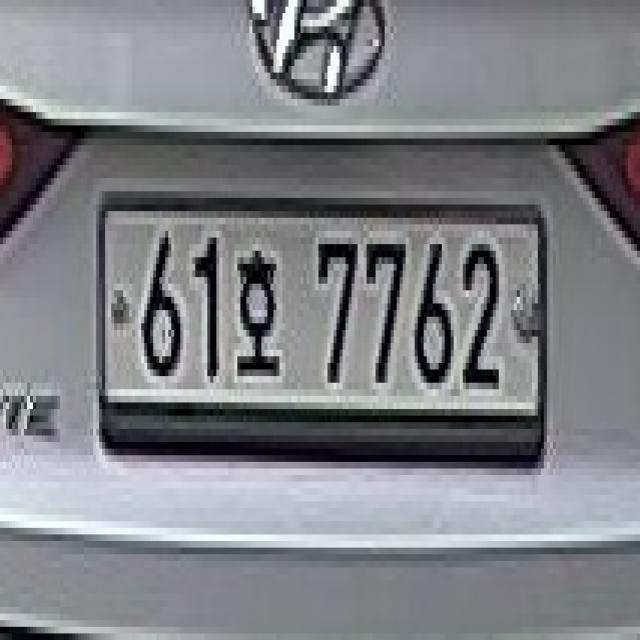1: (186, 226, 225, 383)
2: (456, 228, 504, 386)
6: (133, 228, 183, 380), (410, 233, 454, 389)
7: (313, 226, 360, 388), (362, 224, 406, 386)
ho: (230, 225, 286, 377)
license_plate: (89, 173, 560, 496)
